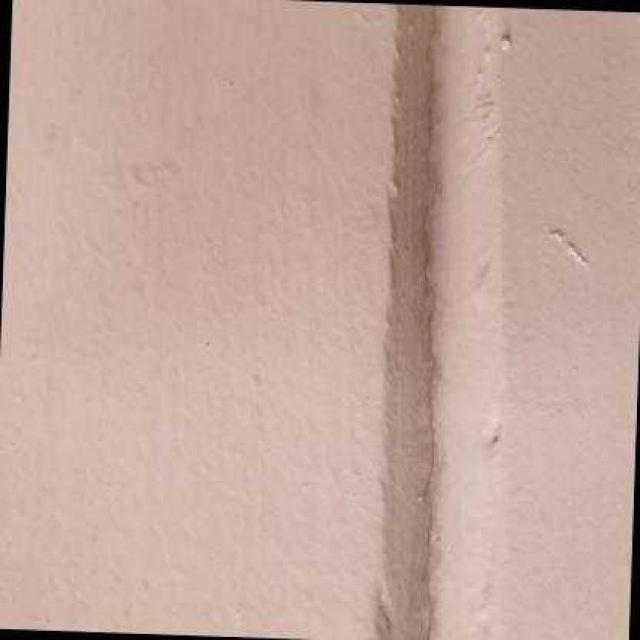D00: (416, 4, 441, 640)
